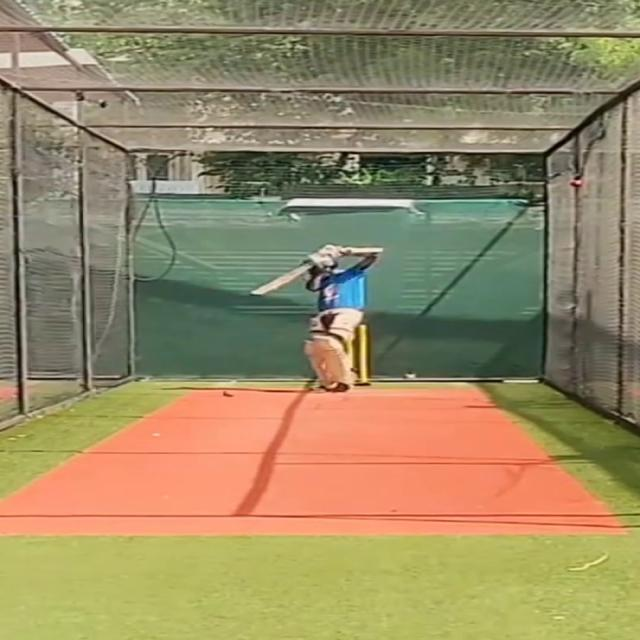ball: (220, 387, 234, 398)
stump: (353, 323, 370, 386)
